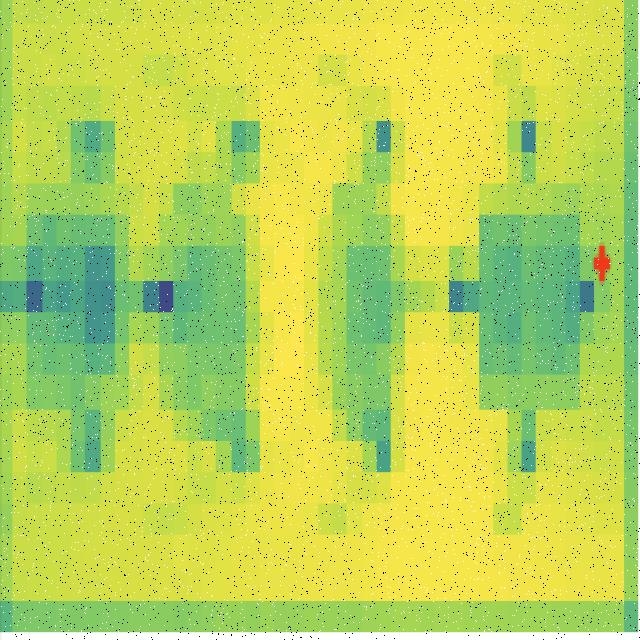Concrete: (160, 186, 262, 438)
Glass: (27, 188, 130, 412)
Metal: (320, 182, 410, 424)
Wood: (478, 184, 582, 411)
